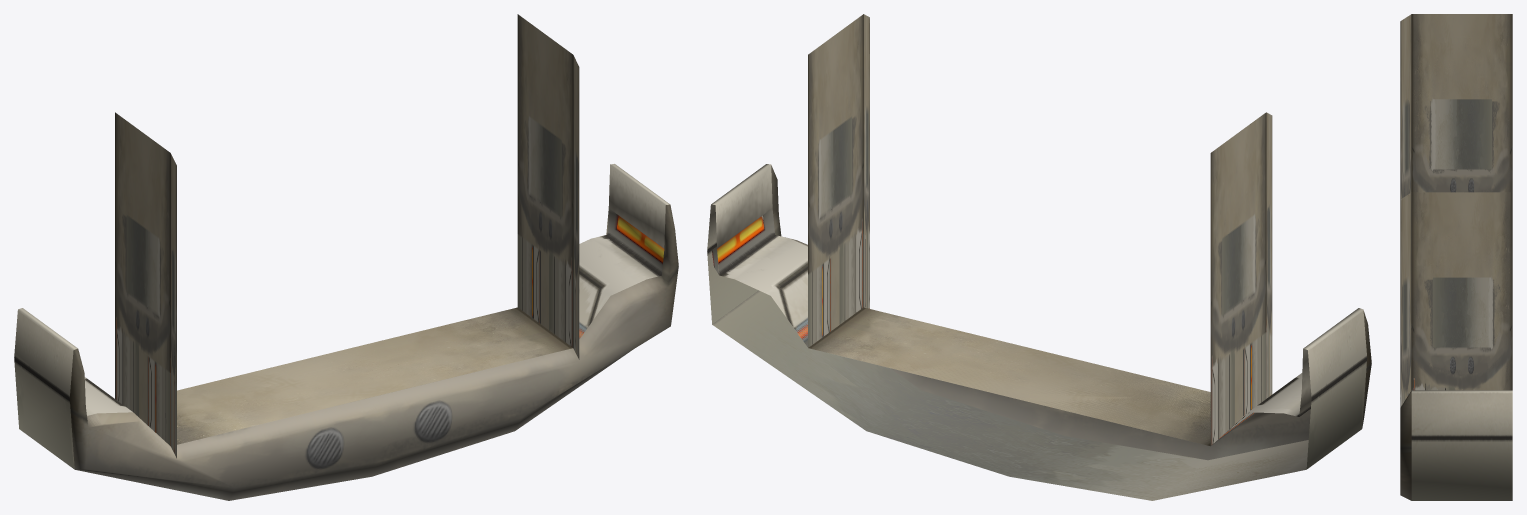
The model's file is road_end.fbx.
3 renders of one model, left to right at view 1: azimuth 30°, elevation 25°; view 2: azimuth 150°, elevation 25°; view 3: azimuth 270°, elevation 25°, orthographic. The views are drawn at different scales.
Visible parts, largest first — view 1: road_end1, colider; view 2: road_end1, colider; view 3: colider, road_end1.
Part boxes in pixels (box(x1,y1,x2,y2)): road_end1: box(14, 164, 678, 500); colider: box(115, 14, 579, 458); road_end1: box(707, 164, 1371, 500); colider: box(808, 14, 1272, 445); colider: box(1400, 14, 1512, 407); road_end1: box(1400, 390, 1512, 500).
Bounding box in the file's own units: 24.02 × 14.16 × 4.26.
